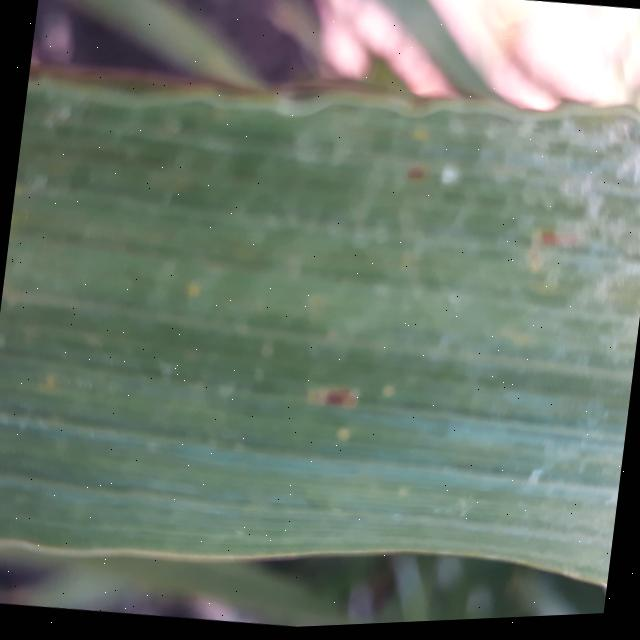orang_rust: (0, 25, 640, 623)
